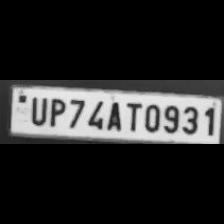0: (140, 102, 160, 132)
1: (200, 104, 218, 136)
3: (178, 103, 200, 135)
4: (84, 97, 104, 129)
7: (64, 96, 84, 128)
9: (160, 102, 180, 134)
A: (103, 99, 123, 131)
P: (46, 96, 66, 128)
T: (122, 100, 142, 132)
U: (27, 95, 47, 125)
